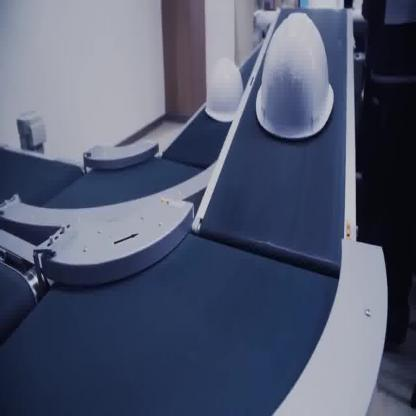helmet: (256, 13, 335, 142), (203, 57, 244, 123)
